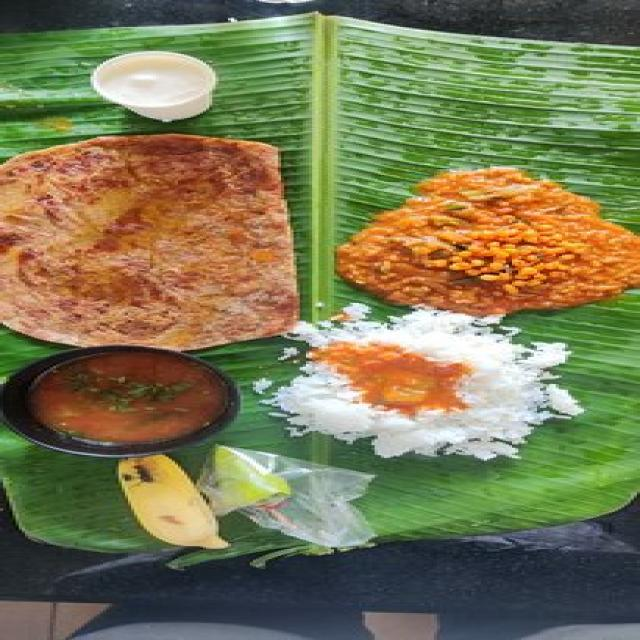veg meals: (0, 47, 640, 556)
